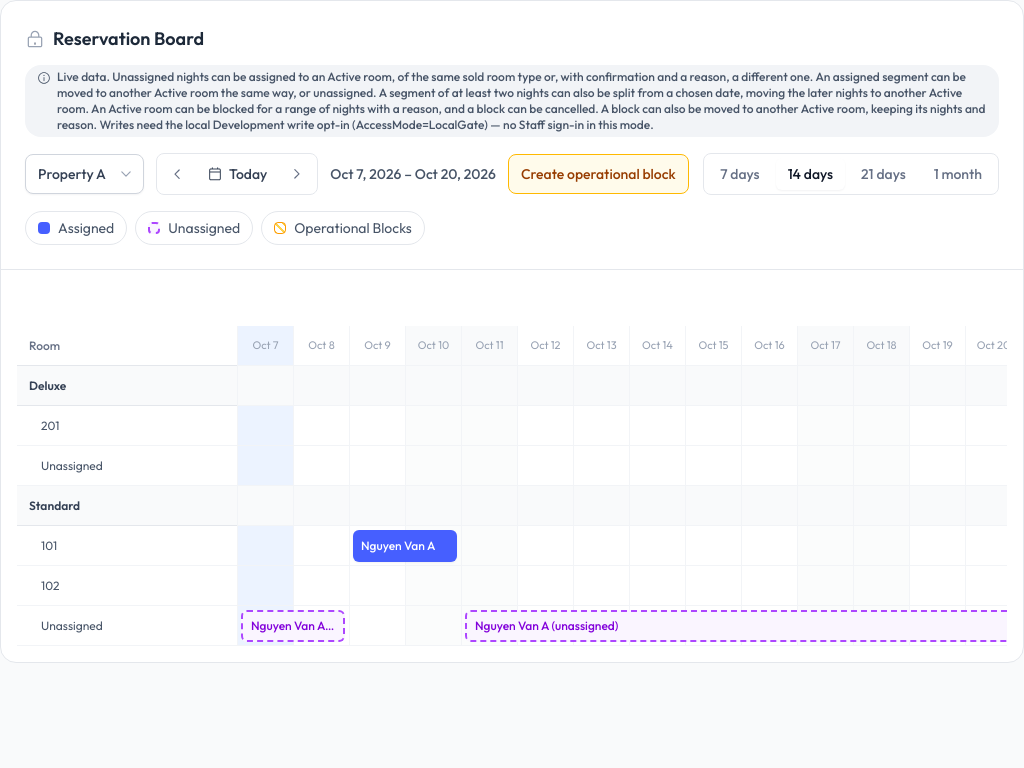
Scenario: ReservationBoard — same-RoomType assignment (PMS-CAL-001.2-CP03A) › opens the dialog for exactly the clicked partial range and offers same-RoomType rooms first, then cross-RoomType rooms
Expected: the number of buttons titled "Nguyen Van A — unassigned — CNF-100" is 2, [241,610,345,642]; [465,610,1007,642]
Click the 2nd button "Nguyen Van A (unassigned)" at (512, 626), box [465,610,1017,642]
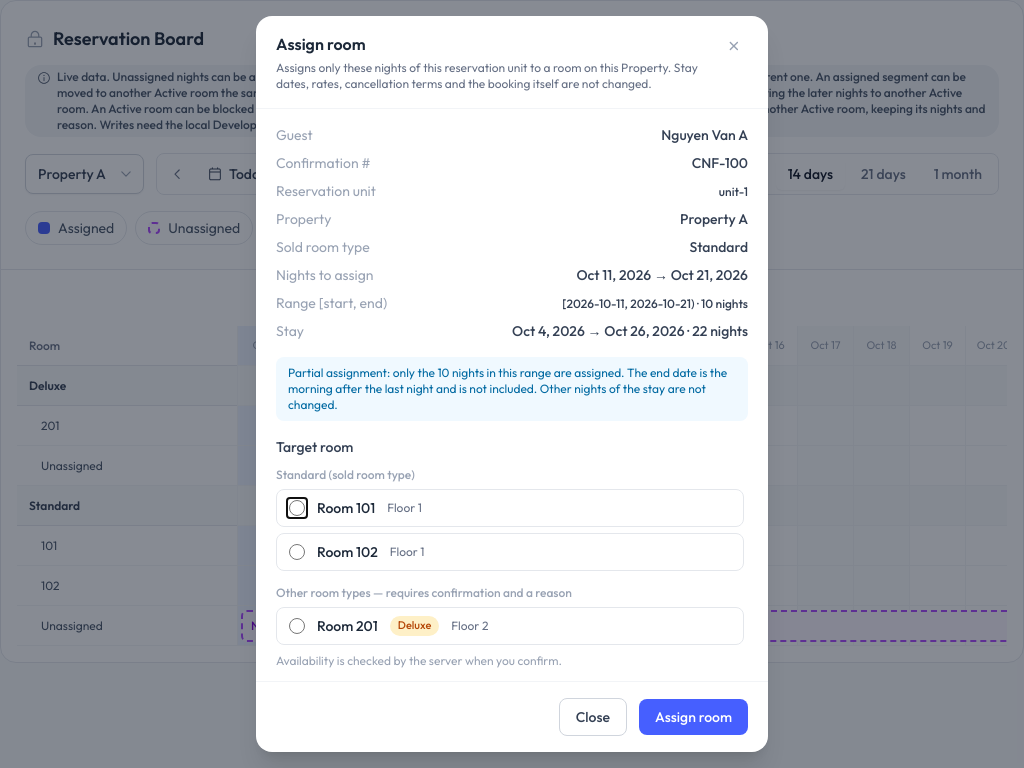
Expected: the text "CNF-100" is shown, [692,153,748,173]
Expected: the text "unit-1" is shown, [719,184,748,200]
Expected: the text "Standard" is shown, [689,237,748,257]
